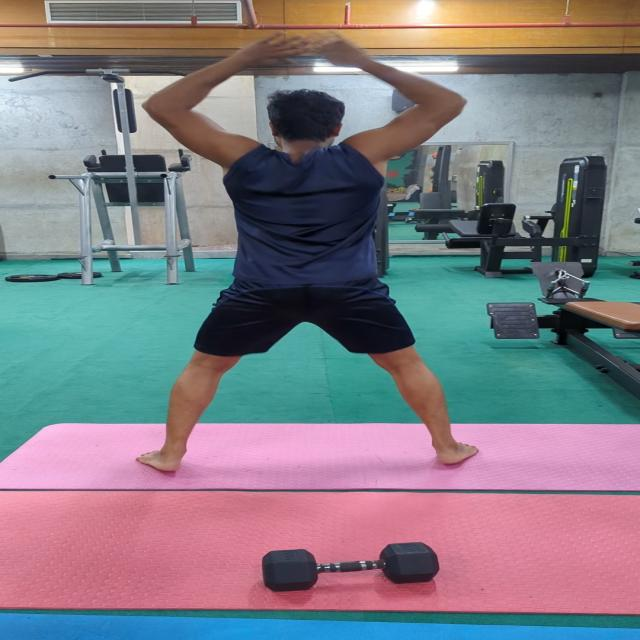Normal_JumpingJacks: (138, 24, 543, 479)
